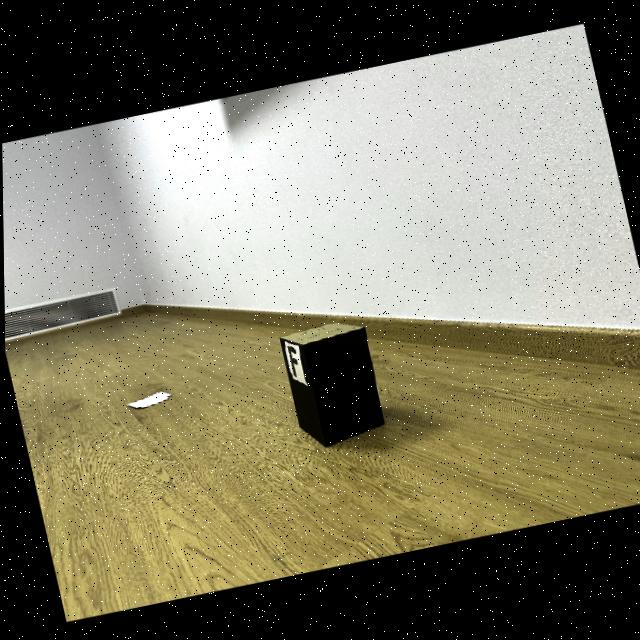F: (287, 345, 296, 376)
